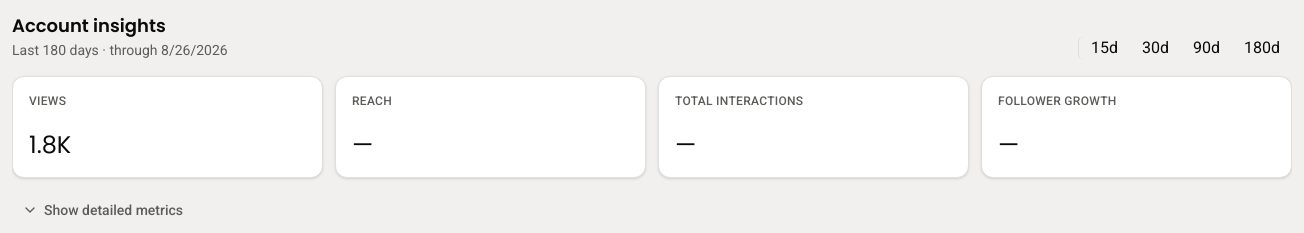
it: IgAccountInsightsPanel › defaults to the 180-day window and switches ranges on demand
Expected: the text "1.8K" is shown, [29, 128, 71, 161]
Expected: the text "150" is not shown
Click the radio button labelled "15d".
click(1104, 48)  # box [1078, 36, 1130, 60]
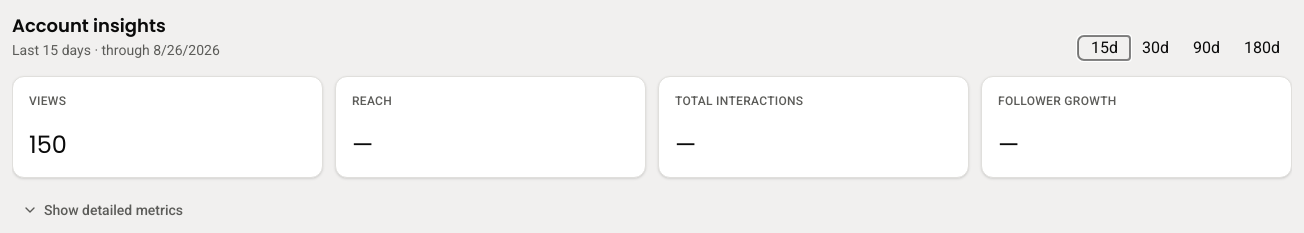
Expected: the text "150" is shown, [29, 128, 67, 161]
Expected: the text "1.8K" is gone
